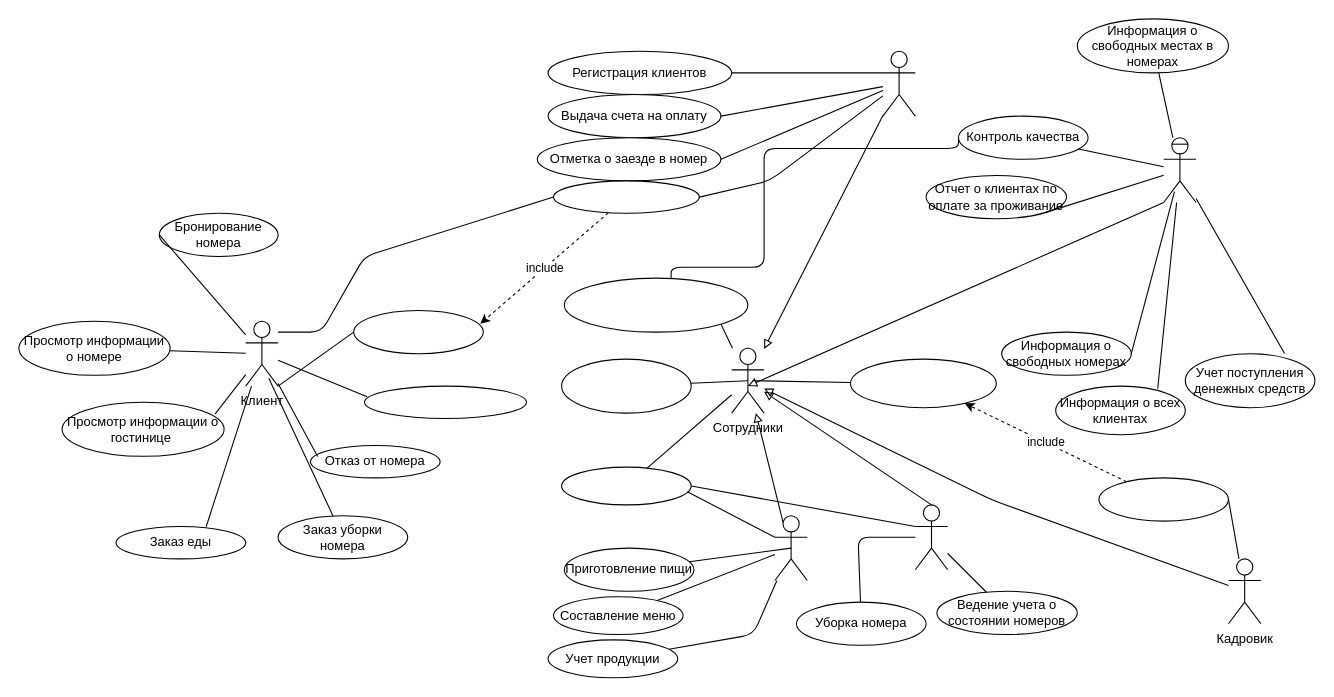
Some shapes in this 1334 by 697 pixel diagram are drawn without their labels. Here are the shapes that lost their labels. From the top down, the box of each, then its label:
(882, 50, 915, 116): Администратор
(1163, 137, 1196, 202): Управляющий
(552, 180, 699, 213): Подбор номера
(563, 277, 748, 332): Просмотр коэффициента эффективности производства
(353, 309, 483, 354): Выбор типа номера
(363, 385, 526, 418): Оплата счета на оплату
(561, 358, 691, 413): Просмотр внутренней почты
(849, 358, 996, 408): Подписание договора
(561, 466, 691, 505): Принятие заказа
(1098, 477, 1228, 521): Прием сотрудников
(774, 515, 807, 580): Повора
(914, 504, 948, 570): Горничные
